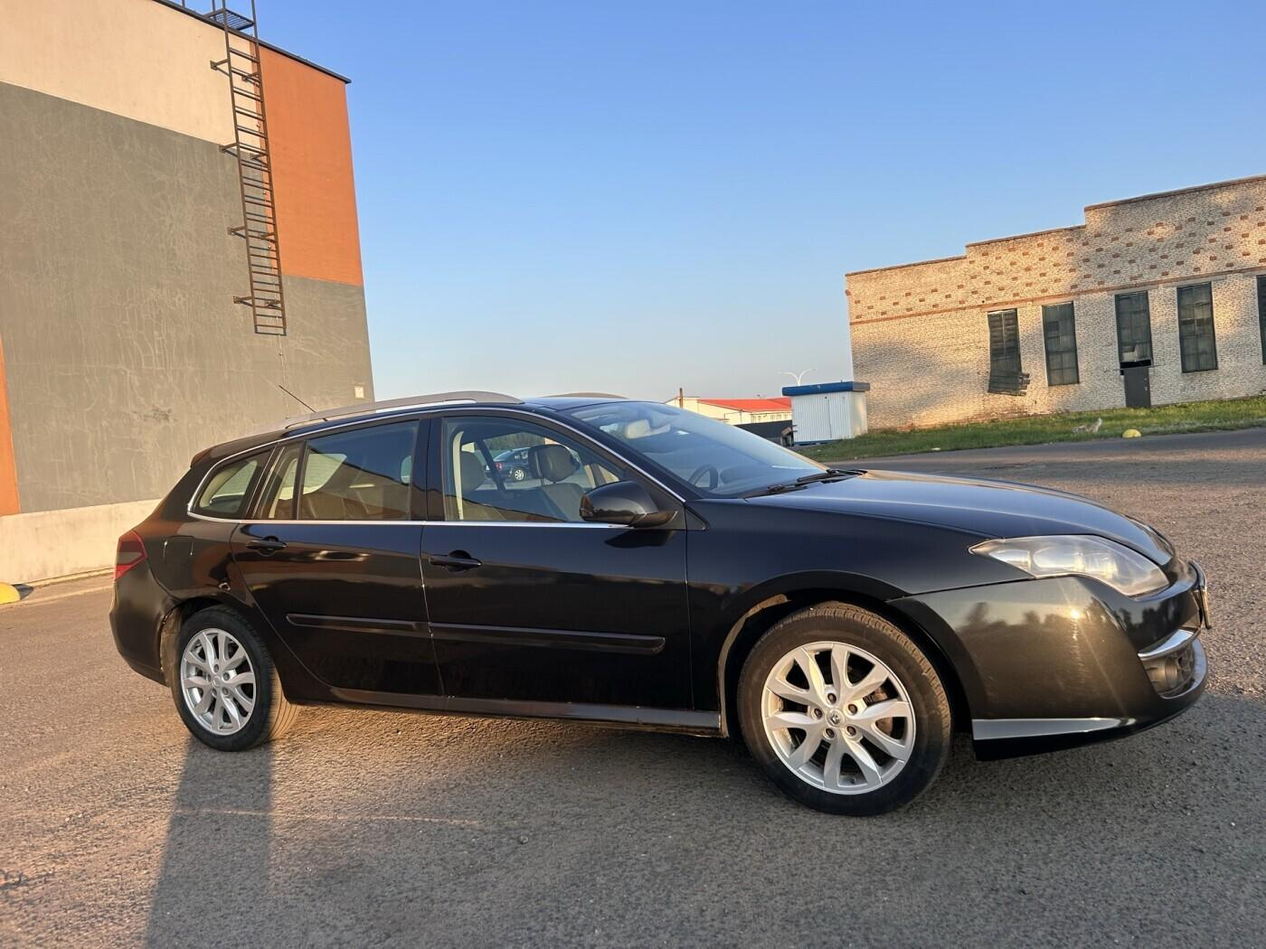Laguna_2007-2011: (110, 393, 1210, 815)
